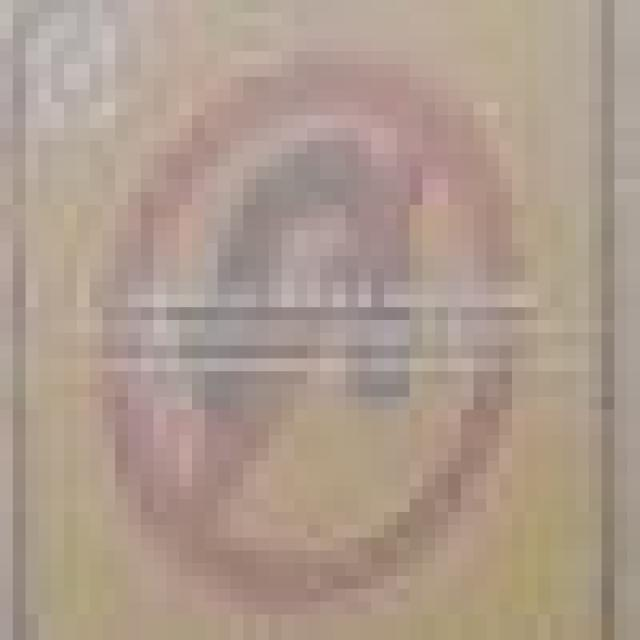u turn prohibited: (84, 54, 511, 585)
